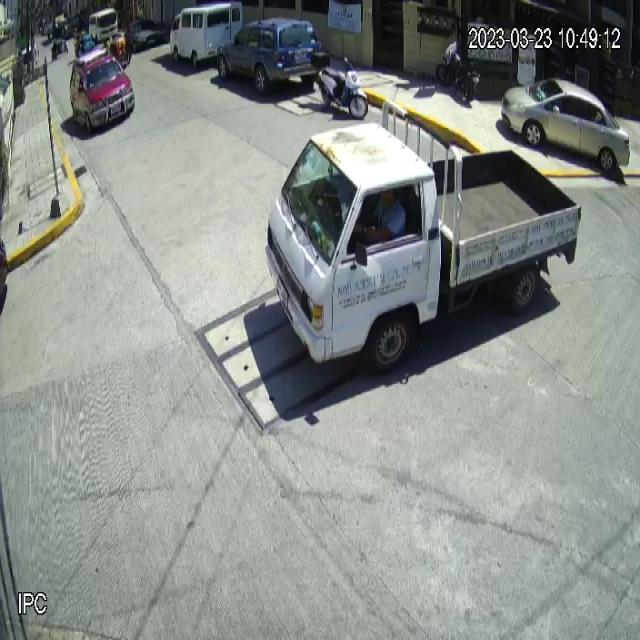Car: (501, 76, 631, 171), (218, 17, 324, 99), (70, 48, 135, 135)
Motorcycle: (312, 48, 369, 120)
Truck: (267, 98, 581, 376)
Van: (170, 1, 245, 67)
